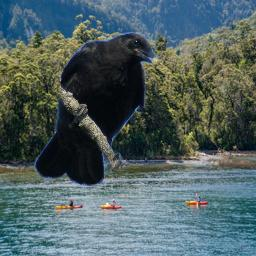Crow: (34, 32, 160, 188)
